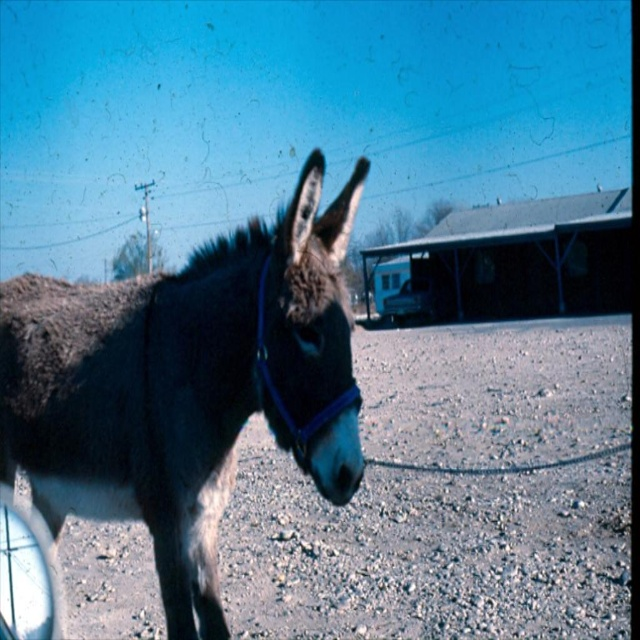Mule: (0, 150, 369, 639)
